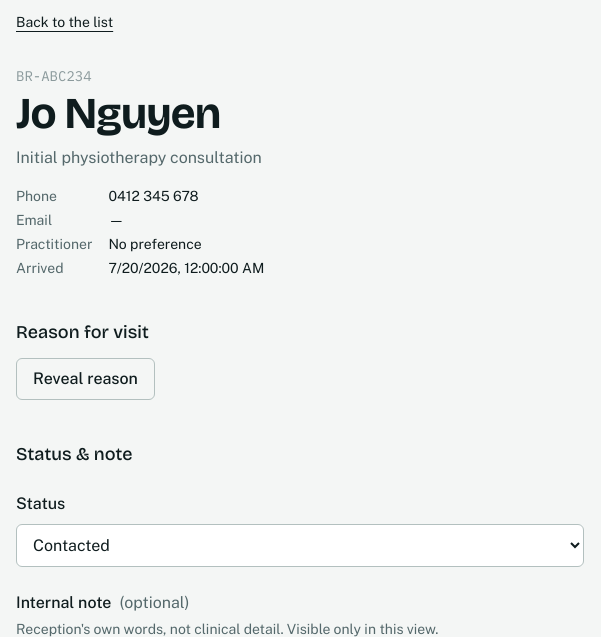
AdminRequestDetail › shows the revealed reason text when one was given
Check: the heading "Jo Nguyen" is shown, box [16, 87, 220, 140]
Click the button "Reveal reason".
click(85, 378)  # box [16, 358, 155, 400]
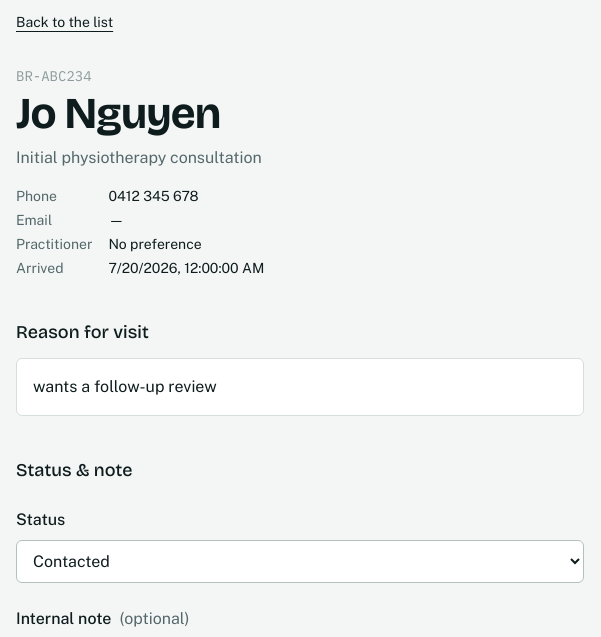
Check: the text "wants a follow-up review" is shown, box [16, 358, 584, 416]
